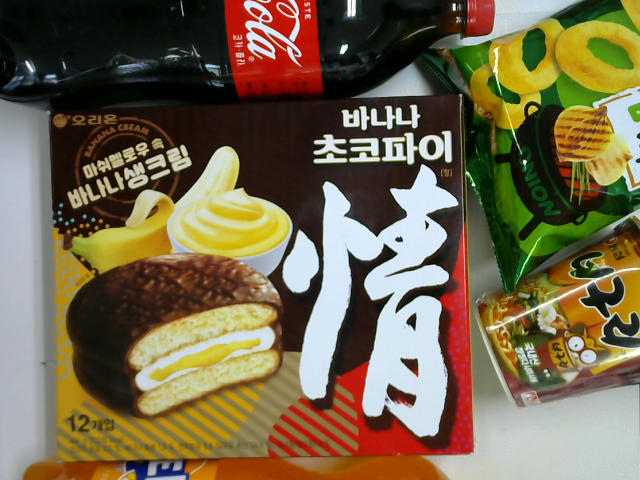Choco_Pie_Banana: (48, 91, 474, 462)
Coca_Cola_1.5L: (1, 1, 495, 107)
Grilled_Onions: (415, 2, 640, 301)
Hwanta_Orange_1.5L: (21, 454, 450, 479)
Raccoon: (474, 215, 640, 408)
